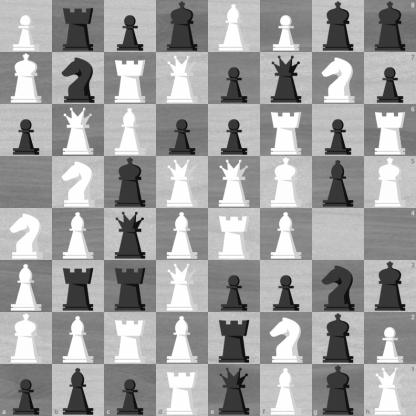B: (260, 364, 312, 416), (1, 261, 52, 312), (53, 209, 104, 260), (53, 313, 104, 364), (105, 105, 156, 156), (157, 209, 208, 260), (157, 313, 208, 364), (209, 1, 260, 52), (261, 209, 312, 260)
K: (364, 156, 416, 209), (1, 53, 52, 104), (1, 313, 52, 364), (261, 157, 312, 208)
N: (1, 209, 52, 260), (53, 157, 104, 208), (261, 313, 312, 364), (313, 53, 364, 104)
P: (364, 312, 416, 364), (1, 1, 52, 52), (261, 1, 312, 52)
Q: (364, 364, 416, 416), (53, 105, 104, 156), (157, 53, 208, 104), (157, 157, 208, 208), (157, 261, 208, 312), (209, 157, 260, 208)
R: (156, 364, 209, 416), (364, 104, 416, 156), (105, 53, 156, 104), (105, 313, 156, 364), (209, 209, 260, 260), (261, 105, 312, 156)
b: (52, 364, 104, 416), (313, 157, 364, 208)
board: (0, 0, 415, 415)
k: (312, 364, 364, 416), (364, 0, 416, 52), (364, 260, 416, 312), (105, 157, 156, 208), (157, 1, 208, 52), (313, 1, 364, 52), (313, 313, 364, 364)
n: (53, 53, 104, 104), (313, 261, 364, 312)
p: (0, 364, 52, 416), (104, 364, 156, 416), (364, 52, 416, 104), (1, 105, 52, 156), (105, 1, 156, 52), (157, 105, 208, 156), (209, 53, 260, 104), (209, 105, 260, 156), (209, 261, 260, 312), (261, 261, 312, 312), (313, 105, 364, 156)
q: (209, 364, 260, 416), (105, 209, 156, 260), (261, 53, 312, 104)
r: (53, 1, 104, 52), (53, 261, 104, 312), (105, 261, 156, 312), (209, 313, 260, 364)
